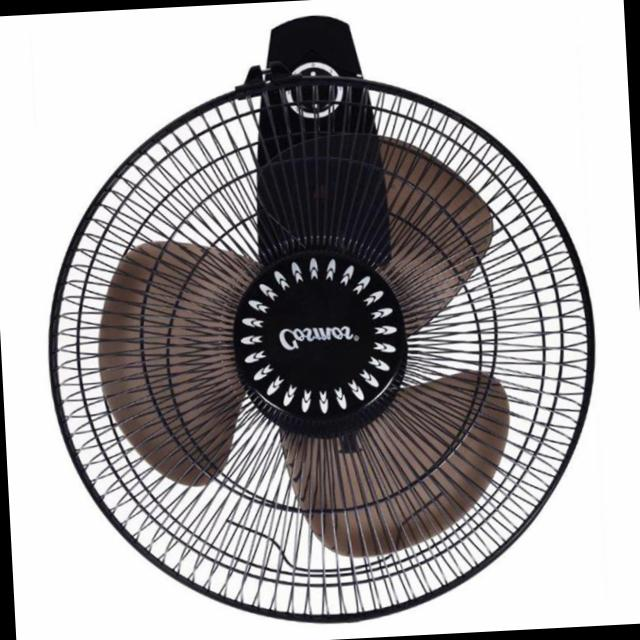fan: (10, 0, 631, 640)
